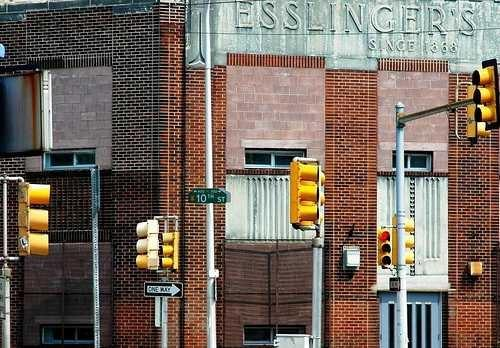red: (379, 229, 393, 272)
